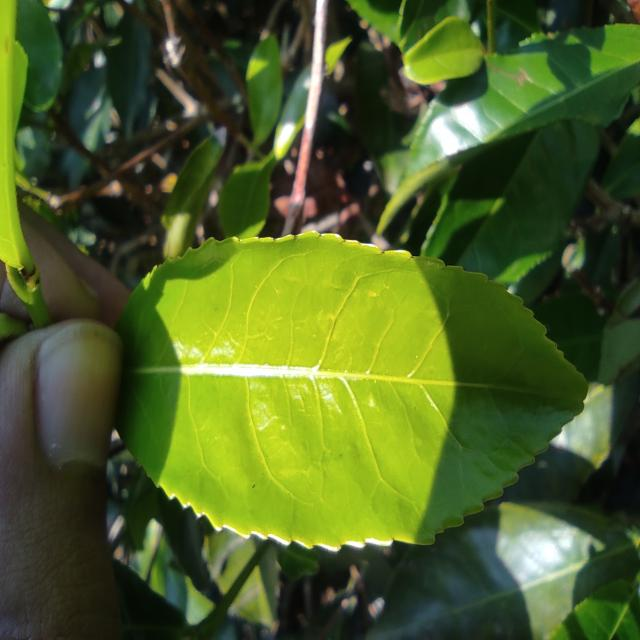Category C 4-7 days: (98, 215, 604, 558)
